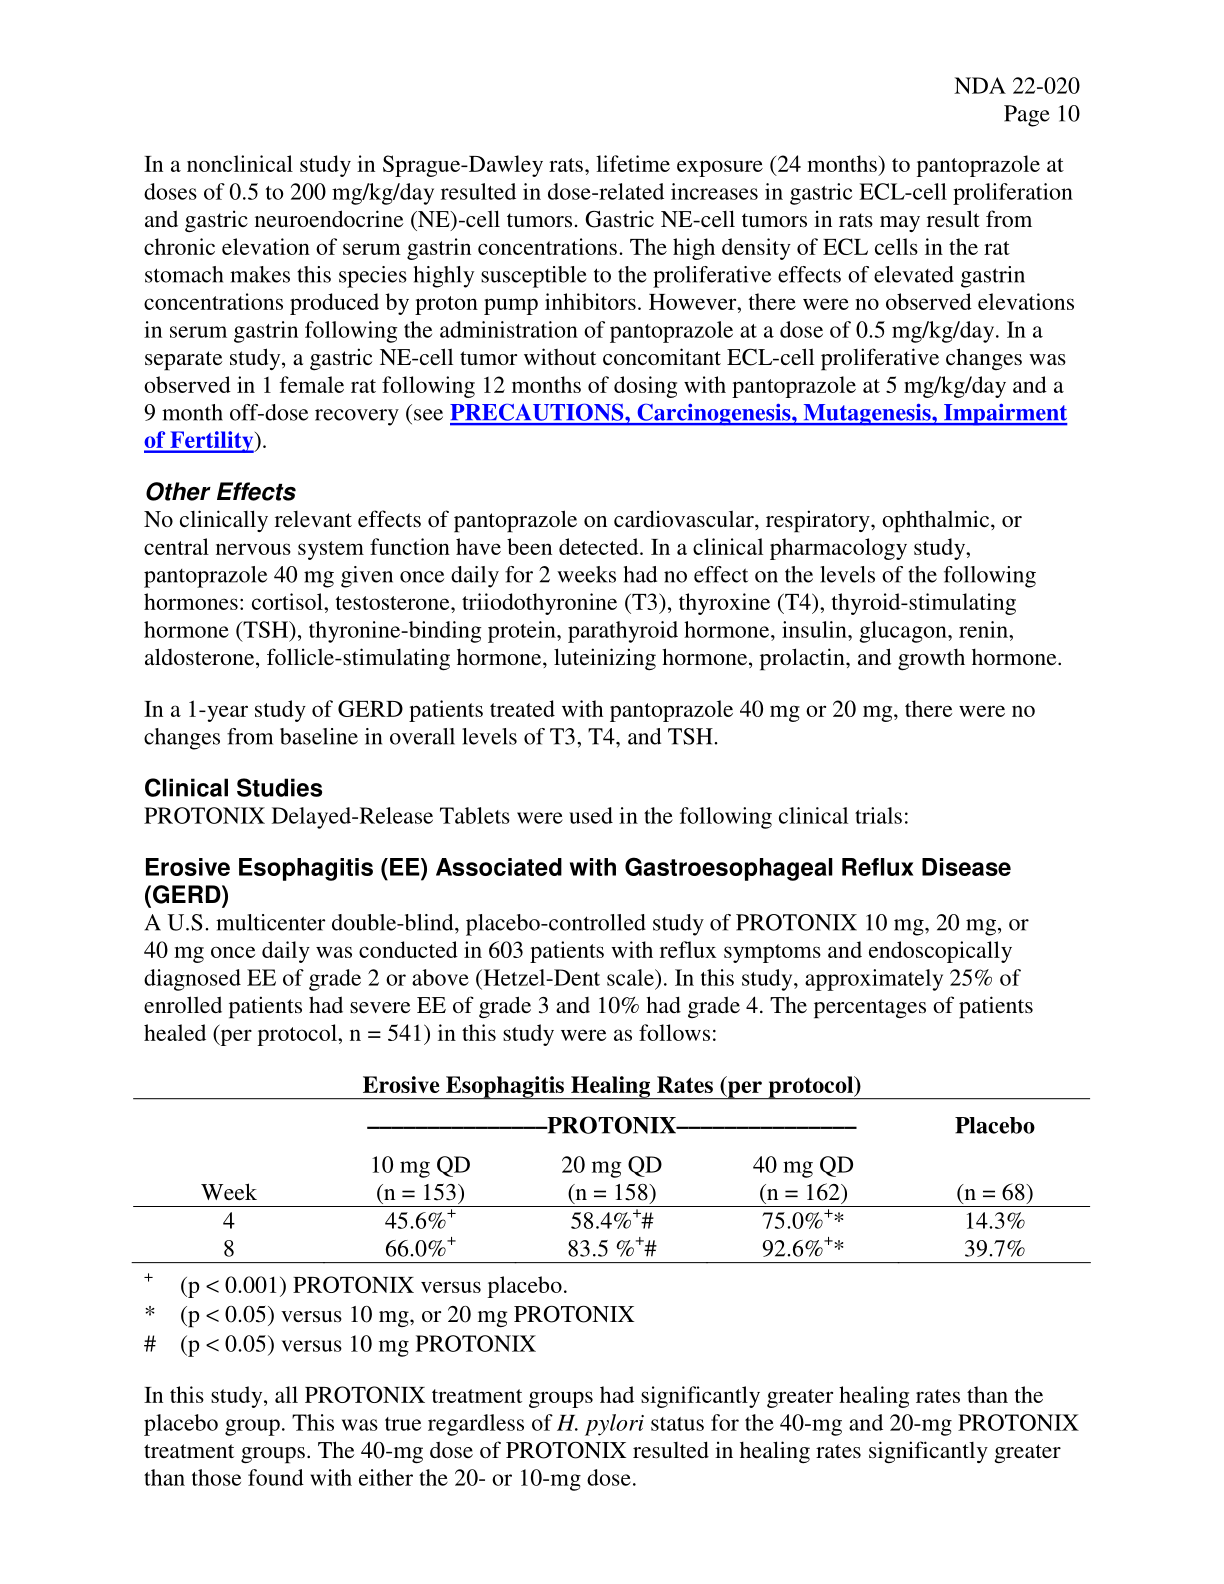partial_lined_merged_cells: (122, 1097, 1092, 1268)
